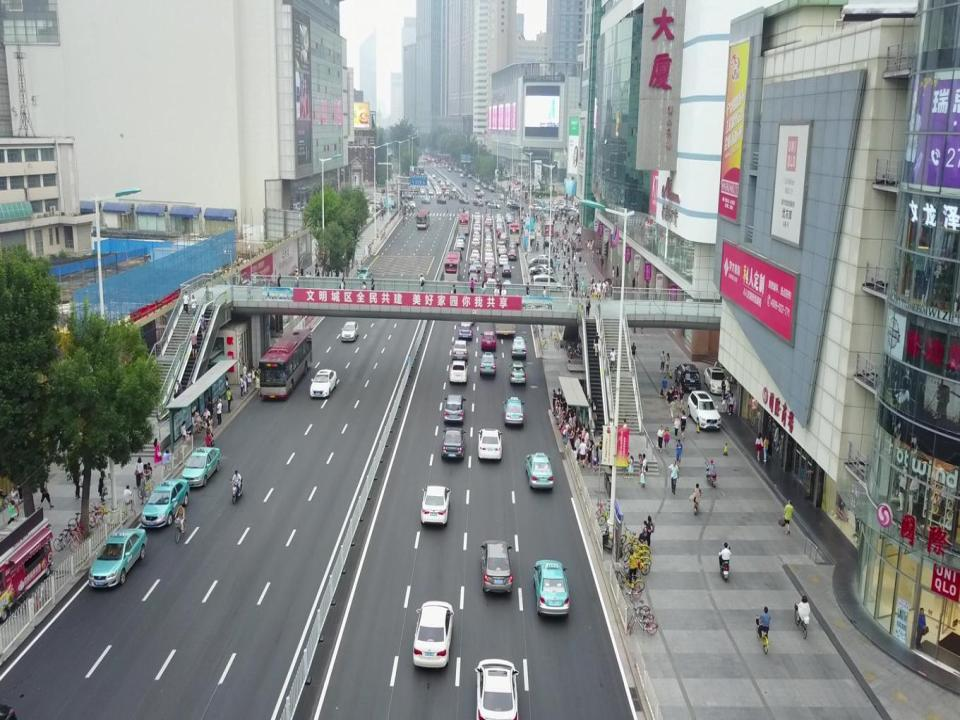bus: (259, 328, 313, 398), (492, 294, 516, 335), (443, 252, 461, 284), (508, 222, 520, 246), (416, 209, 430, 229), (458, 213, 470, 235)
car: (88, 528, 148, 588), (473, 658, 519, 720), (414, 600, 454, 669), (141, 478, 190, 528), (532, 559, 570, 614), (180, 446, 221, 487), (480, 540, 512, 592), (688, 391, 722, 430), (421, 486, 450, 525), (524, 452, 554, 488), (477, 428, 504, 460), (441, 426, 465, 458), (674, 364, 701, 392), (703, 366, 730, 394), (310, 369, 337, 396), (443, 394, 467, 422), (503, 396, 525, 424), (449, 360, 469, 382), (508, 360, 526, 384), (479, 352, 497, 375), (341, 321, 359, 341), (452, 340, 469, 360), (480, 330, 497, 350), (511, 336, 526, 358), (356, 266, 372, 286), (458, 321, 474, 339), (502, 280, 511, 295), (501, 265, 512, 277), (498, 254, 509, 266), (467, 264, 478, 276), (507, 249, 518, 261), (452, 248, 462, 260), (484, 264, 494, 276), (468, 272, 478, 284), (472, 260, 482, 272), (487, 201, 501, 209), (484, 271, 494, 282), (487, 278, 496, 290), (499, 232, 508, 243), (456, 238, 464, 249), (469, 254, 477, 265), (471, 249, 479, 260), (472, 199, 484, 206), (496, 241, 505, 250), (498, 246, 506, 256), (459, 196, 469, 204), (399, 194, 413, 199), (420, 196, 430, 203), (509, 242, 517, 250), (458, 232, 465, 241), (436, 197, 446, 203), (389, 200, 396, 208), (507, 216, 513, 224), (476, 191, 482, 198), (474, 185, 480, 191), (439, 181, 444, 186), (477, 178, 482, 183), (462, 181, 466, 187), (452, 186, 456, 192), (468, 173, 472, 178), (432, 173, 436, 178), (438, 177, 442, 182), (442, 184, 446, 189), (446, 180, 450, 185), (459, 173, 464, 177), (453, 168, 458, 172), (459, 168, 463, 172)
van: (532, 275, 563, 291)
